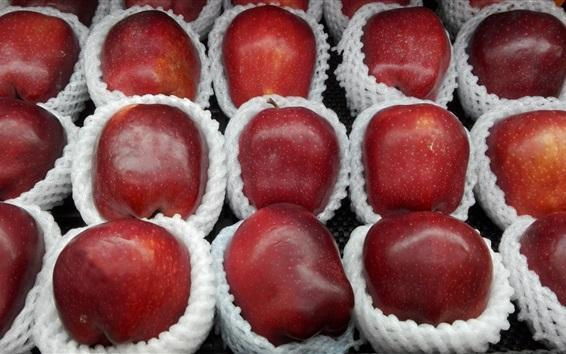apple: (220, 203, 357, 344), (54, 219, 192, 344), (359, 213, 496, 327), (86, 98, 213, 218), (357, 104, 470, 224), (225, 102, 339, 217), (451, 2, 566, 112), (346, 1, 456, 108), (88, 6, 202, 107), (210, 2, 316, 109), (472, 106, 565, 222), (1, 2, 86, 112), (1, 97, 68, 201), (503, 211, 566, 312)
